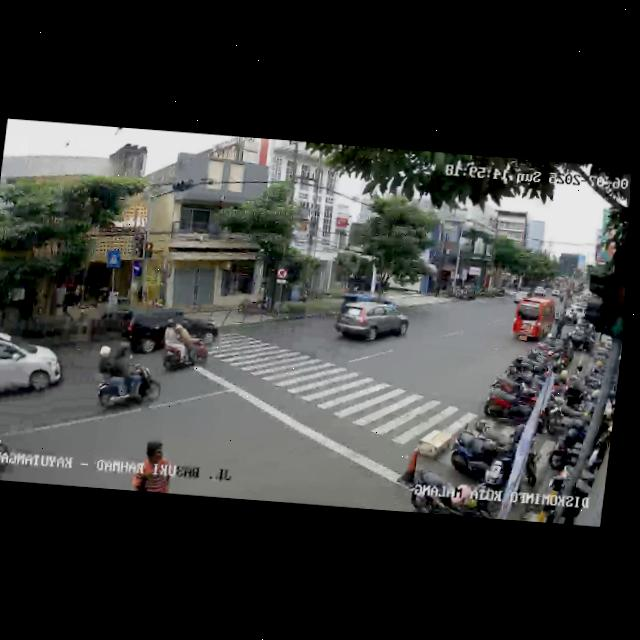car: (0, 330, 65, 412), (125, 303, 221, 358), (332, 298, 411, 348), (509, 294, 558, 344)
motorcycle: (88, 347, 163, 419), (159, 313, 212, 376), (0, 419, 14, 478)
person: (130, 435, 178, 493)
